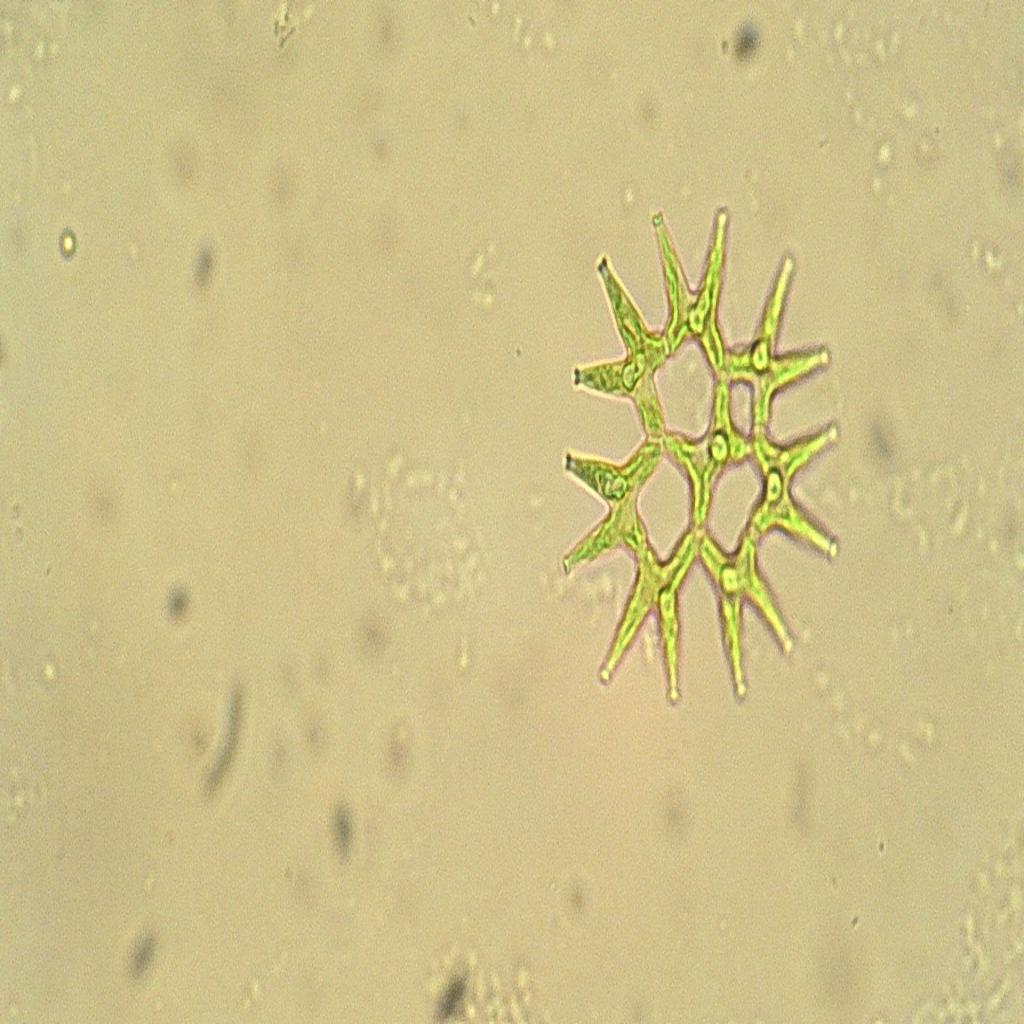Pediastrum_75T: (538, 175, 860, 741)
